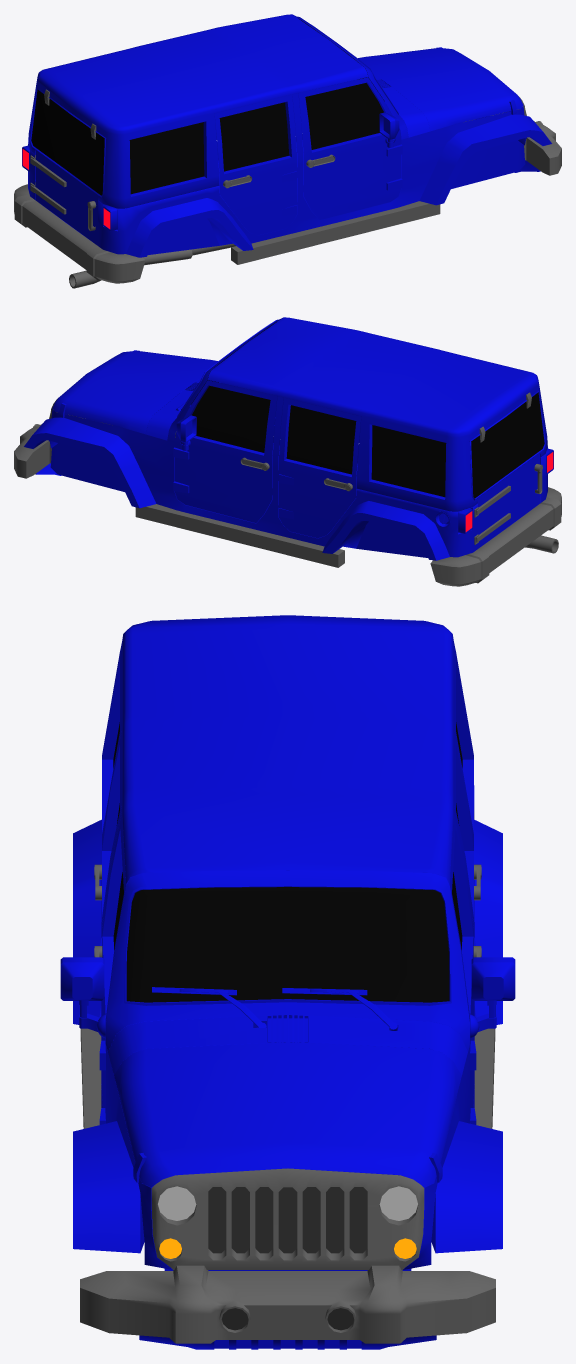
File: Car4.fbx
3 renders of one model, top to bottom at view 1: azimuth 30°, elevation 25°; view 2: azimuth 150°, elevation 25°; view 3: azimuth 270°, elevation 25°, orthographic. The views are drawn at different scales.
Visible parts, largest first — view 1: Car4; view 2: Car4; view 3: Car4.
Boxes of the visible parts, bbox=[...] form: Car4: bbox=[14, 14, 561, 288]; Car4: bbox=[14, 317, 561, 586]; Car4: bbox=[60, 615, 515, 1349].
Bounding box in the file's own units: 463 × 156 × 189.
